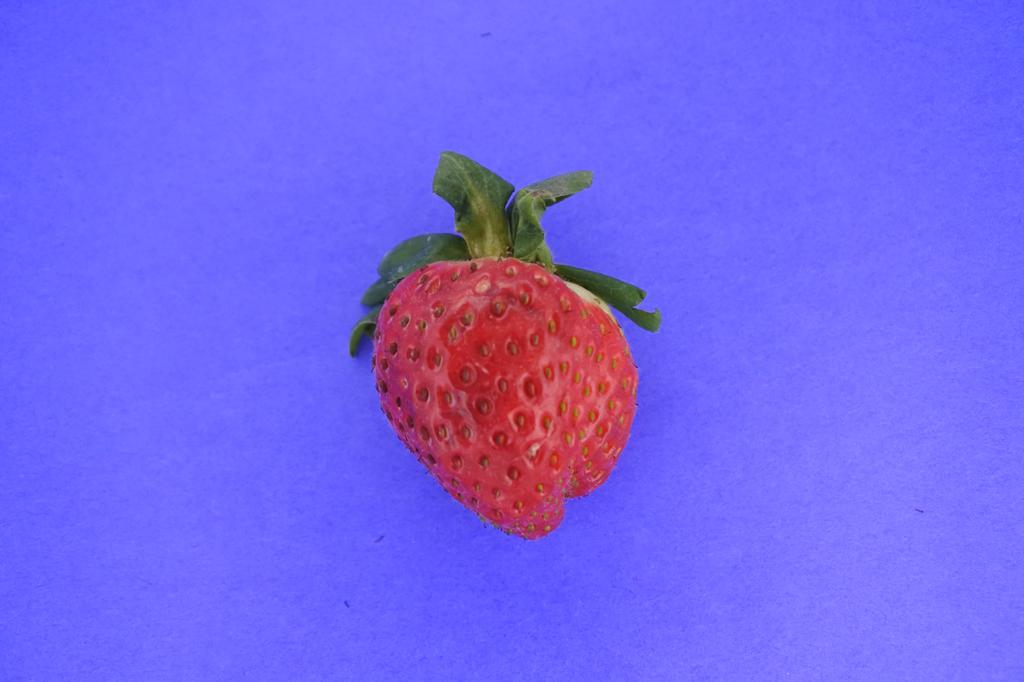red strawberry: (347, 149, 662, 545)
